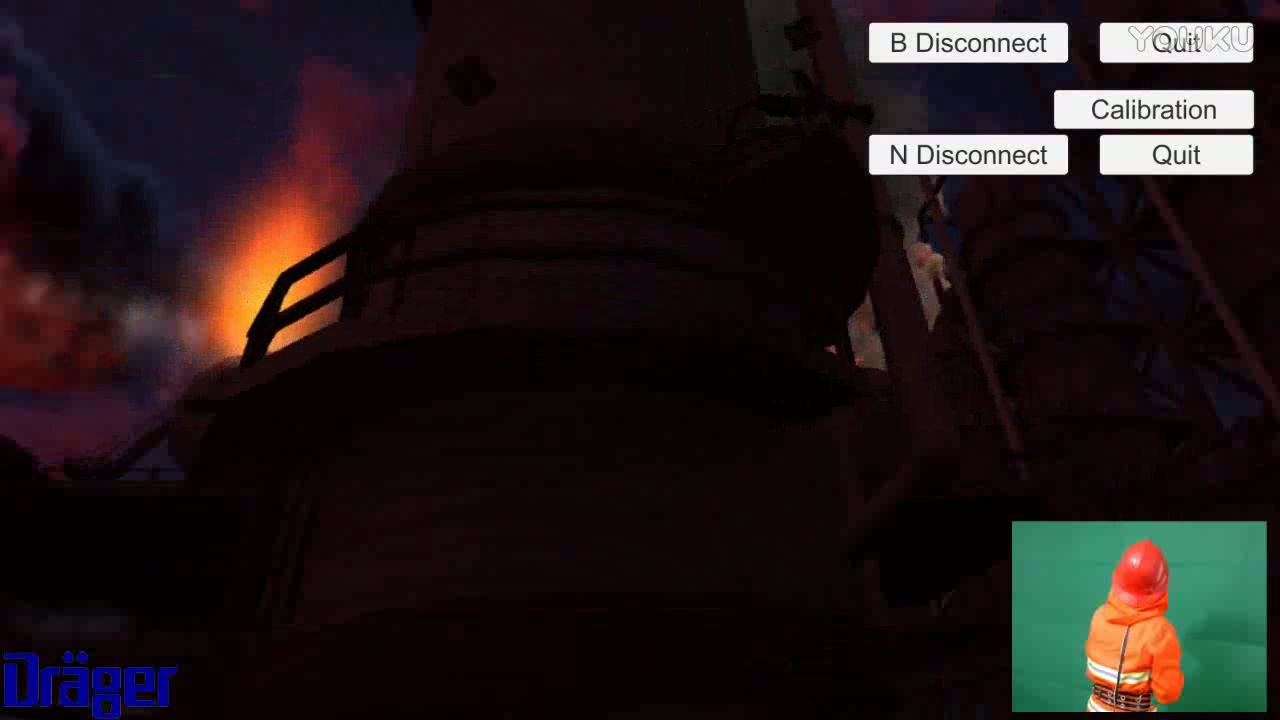fire: (189, 155, 364, 367)
